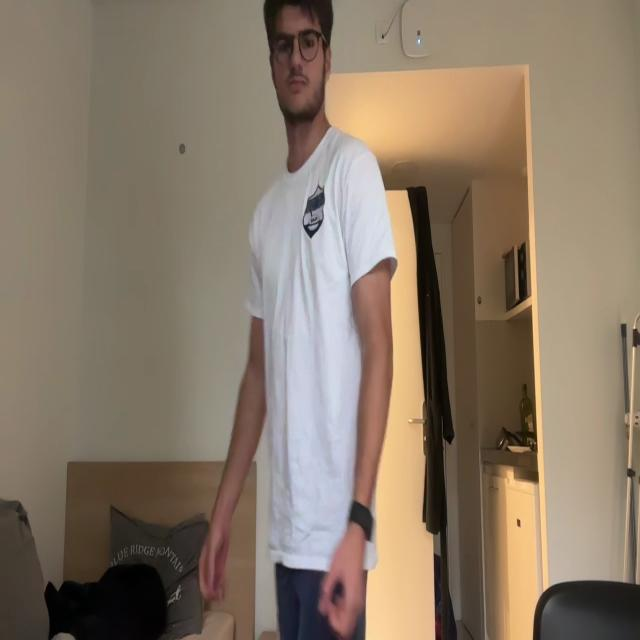elbow: (360, 333, 396, 390), (246, 356, 269, 407)
hand: (316, 530, 366, 640), (197, 516, 232, 604)
shoulder: (338, 142, 383, 226)
